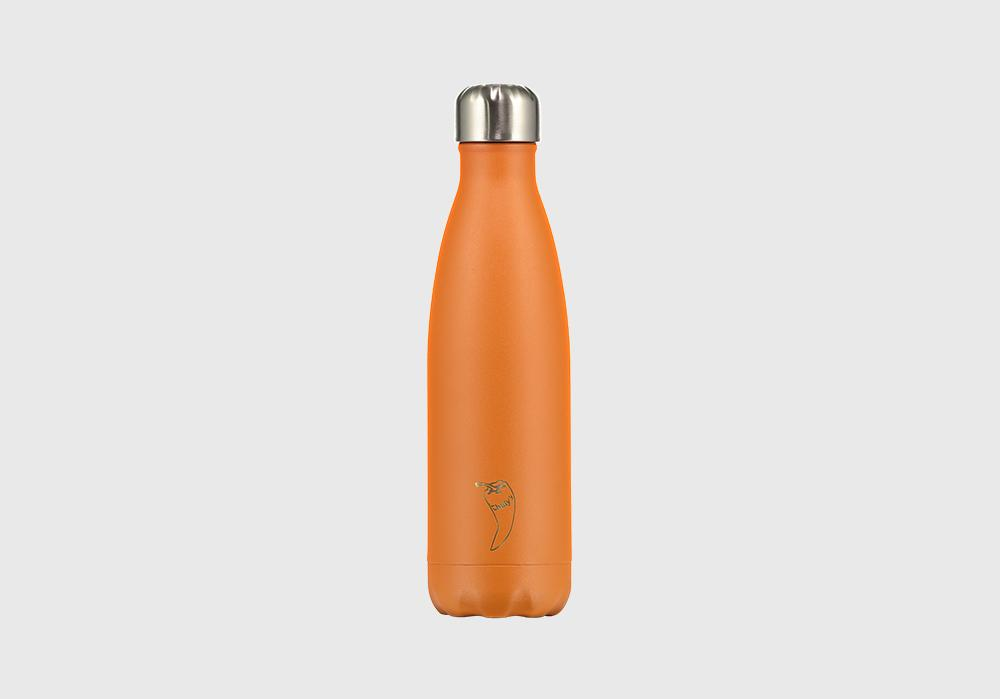bottle: (423, 82, 573, 623)
